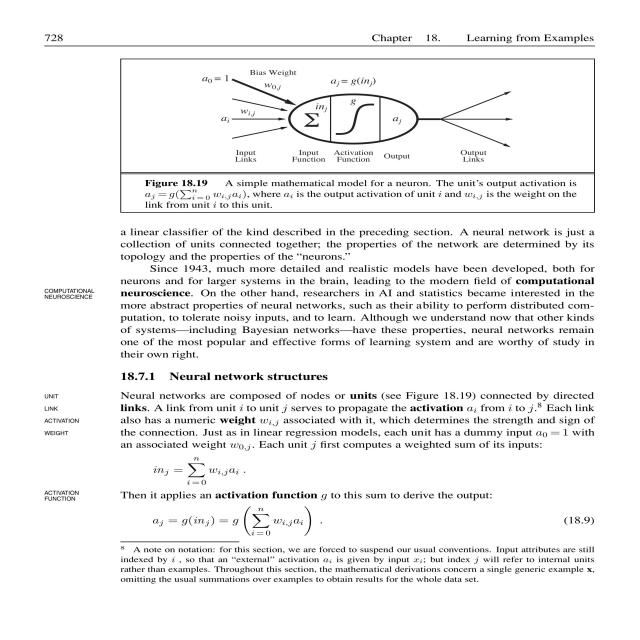diagram: (107, 55, 616, 220)
